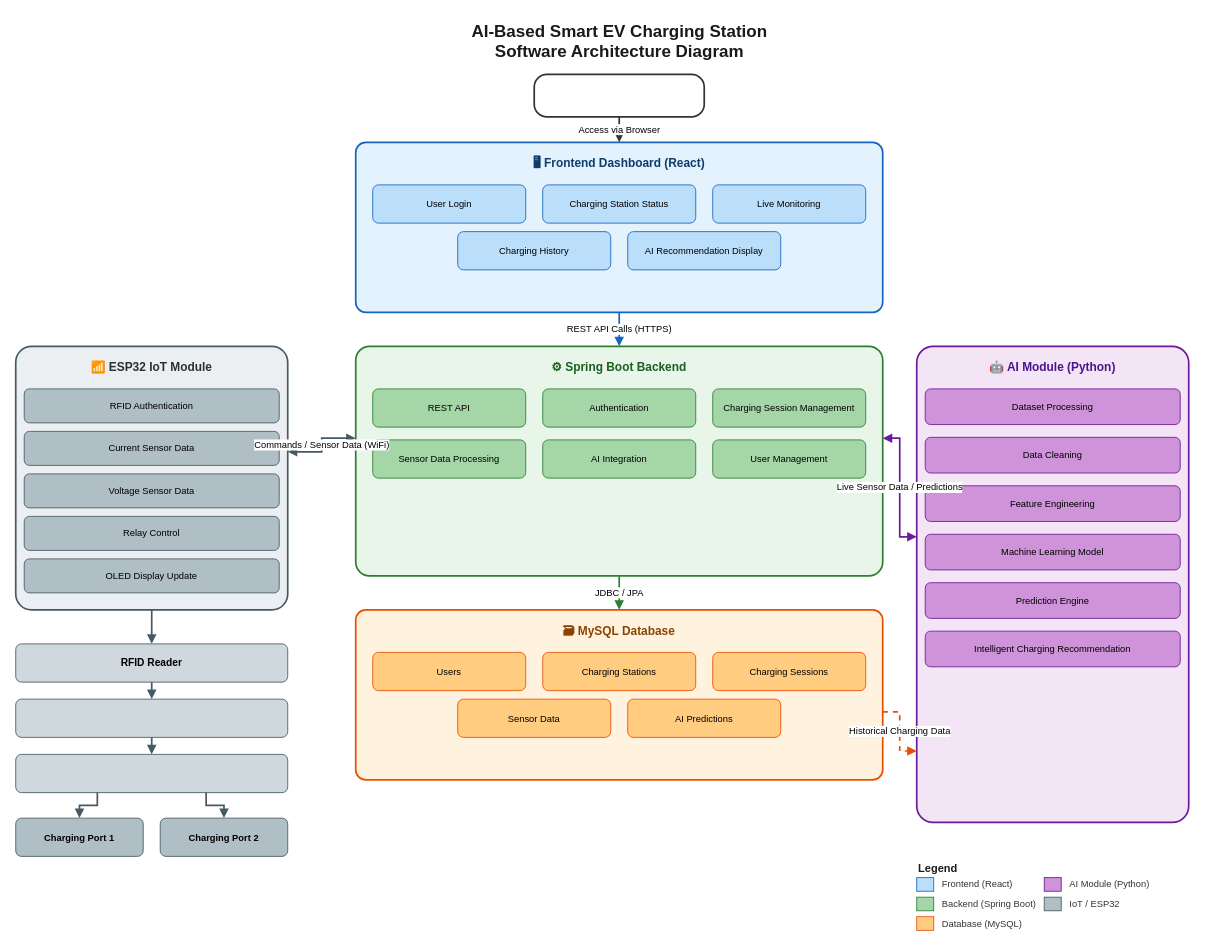
This 1218x946 diagram has some shape labels left out. Each missing label, with the centre of its shape:
Current & Voltage Sensors: (x=151, y=717)
Relay Module: (x=151, y=773)
👤 User: (x=619, y=95)
